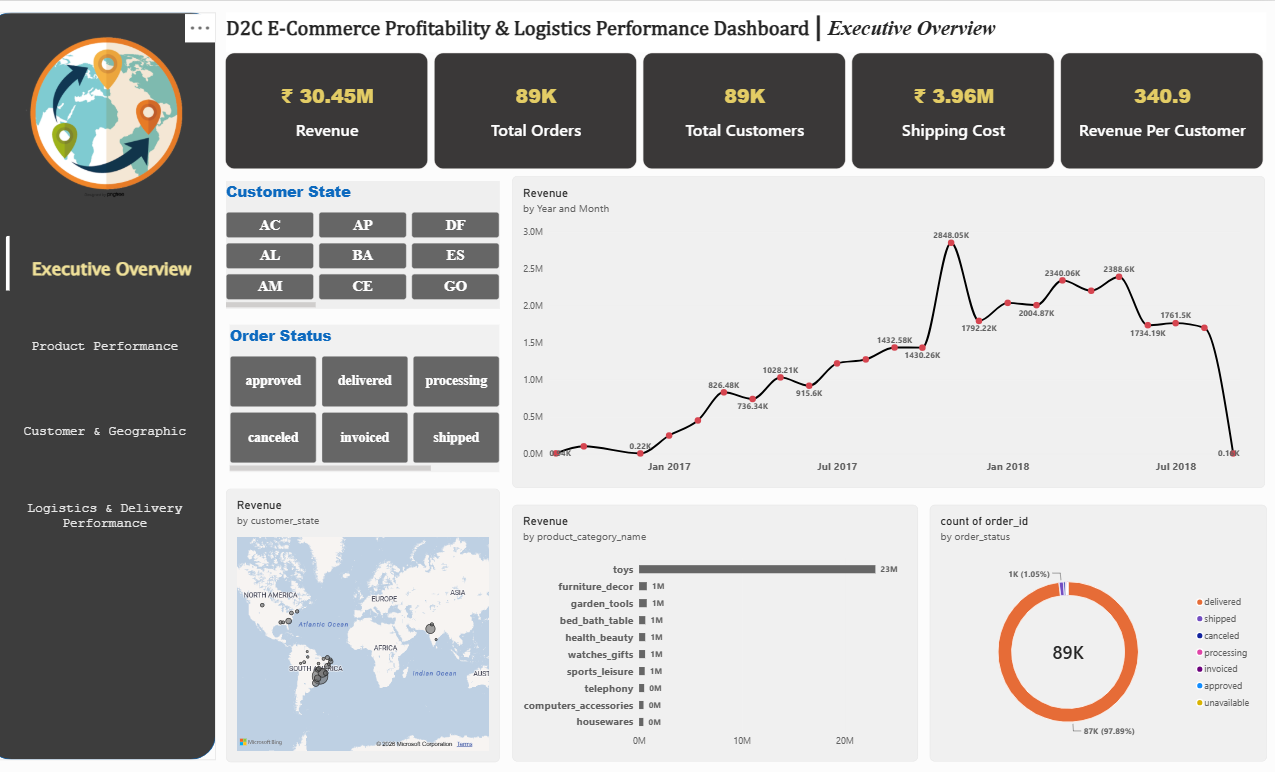

This screenshot's page, from the dashboard's own definition file:
{"tool":"powerbi","page":{"name":"Executive Overview","canvas":[2000,1200],"ordinal":0},"visuals":[{"type":"cardVisual","fields":{"Data":["df_Customers.Revenue","df_Customers.Total Orders","df_Customers.Total Customers","df_Customers.Shipping Cost","df_Customers.Revenue Per Customer"]},"box":[370.9,79.3,1614.5,182.2],"z":0},{"type":"shape","box":[0,17.5,356.9,1159.8],"z":1000},{"type":"barChart","title":"Revenue By Product Category","fields":{"Y":["df_Customers.Revenue"],"Category":["df_Products.product_category_name"]},"box":[817,782.1,629.6,398.7],"z":2000},{"type":"lineChart","title":"Revenue By Year & Months","fields":{"Y":["df_Customers.Revenue"],"Category":["df_Orders.order_purchase_timestamp.Variation.Date Hierarchy.Year","df_Orders.order_purchase_timestamp.Variation.Date Hierarchy.Month"]},"box":[817,272.3,1167.8,483.7],"z":3000},{"type":"donutChart","title":"Order Status","fields":{"Category":["df_Orders.order_status"],"Y":["df_OrderItems.count of order_id"]},"box":[1464.1,782.1,522.9,398.7],"z":4000},{"type":"map","title":"Revenue By Customer State","fields":{"Category":["df_Customers.customer_state"],"Size":["df_Customers.Revenue"]},"box":[372.5,756,424.8,424.8],"z":5000},{"type":"advancedSlicerVisual","title":"Customer State","fields":{"Values":["df_Customers.customer_state"]},"box":[372.5,278.9,424.8,198.3],"z":6000},{"type":"advancedSlicerVisual","title":"Order Status","fields":{"Values":["df_Orders.order_status"]},"box":[379.1,503.3,418.3,228.8],"z":7000},{"type":"textbox","box":[371.9,17.8,1614.7,62.4],"z":8000},{"type":"image","box":[33,36.9,300.6,275.4],"z":9000},{"type":"pageNavigator","box":[11.6,345.2,345.2,519.8],"z":9001}]}

Visuals, with their boxes on the page's 2000x1200 design canvas (x1, y1, x2, y2). These are canvas units, not pixel positions in the 1275x772 screenshot, which may show the page scaled, cropped or inside an application window:
cardVisual - df_Customers.Revenue x df_Customers.Total Orders: pyautogui.locateOnScreen(371, 79, 1985, 262)
shape: pyautogui.locateOnScreen(0, 18, 357, 1177)
"Revenue By Product Category" barChart: pyautogui.locateOnScreen(817, 782, 1447, 1181)
"Revenue By Year & Months" lineChart: pyautogui.locateOnScreen(817, 272, 1985, 756)
"Order Status" donutChart: pyautogui.locateOnScreen(1464, 782, 1987, 1181)
"Revenue By Customer State" map: pyautogui.locateOnScreen(372, 756, 797, 1181)
"Customer State" advancedSlicerVisual: pyautogui.locateOnScreen(372, 279, 797, 477)
"Order Status" advancedSlicerVisual: pyautogui.locateOnScreen(379, 503, 797, 732)
textbox: pyautogui.locateOnScreen(372, 18, 1987, 80)
image: pyautogui.locateOnScreen(33, 37, 334, 312)
pageNavigator: pyautogui.locateOnScreen(12, 345, 357, 865)
